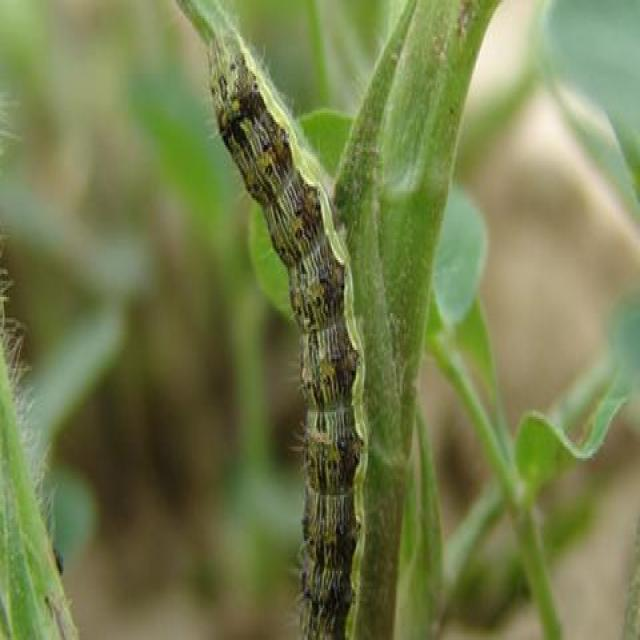BeetArmyWorm-Larva-: (196, 36, 373, 638)
